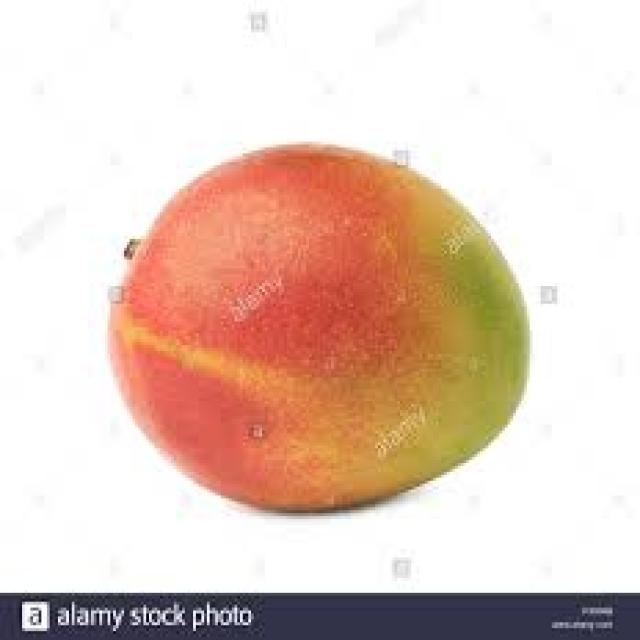biodegradable: (105, 136, 530, 510)
